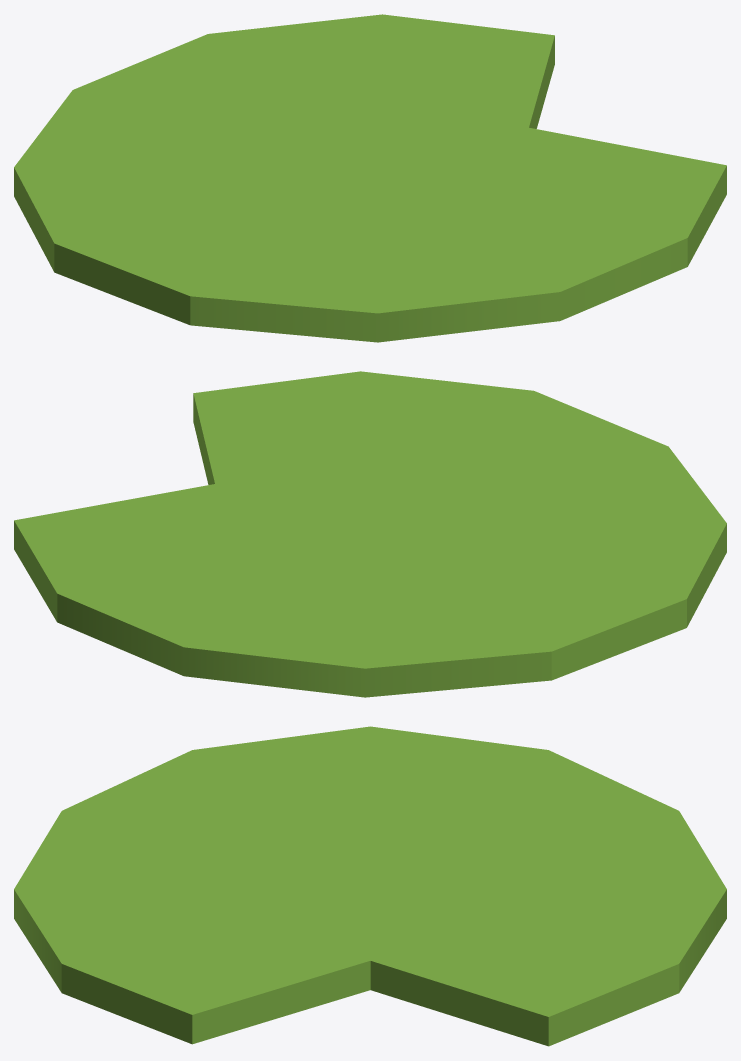
The model's file is lotus_leaf.fbx.
3 views of the same model, one above another, from view 1: azimuth 30°, elevation 25°; view 2: azimuth 150°, elevation 25°; view 3: azimuth 270°, elevation 25° (orthographic).
Visible parts, largest first — view 1: lotus_leaf; view 2: lotus_leaf; view 3: lotus_leaf.
Boxes of the visible parts, bbox=[...] form: lotus_leaf: bbox=[14, 14, 726, 342]; lotus_leaf: bbox=[14, 371, 726, 697]; lotus_leaf: bbox=[14, 726, 726, 1046].
Size of the model in its own units: 465 by 21.94 by 482.
